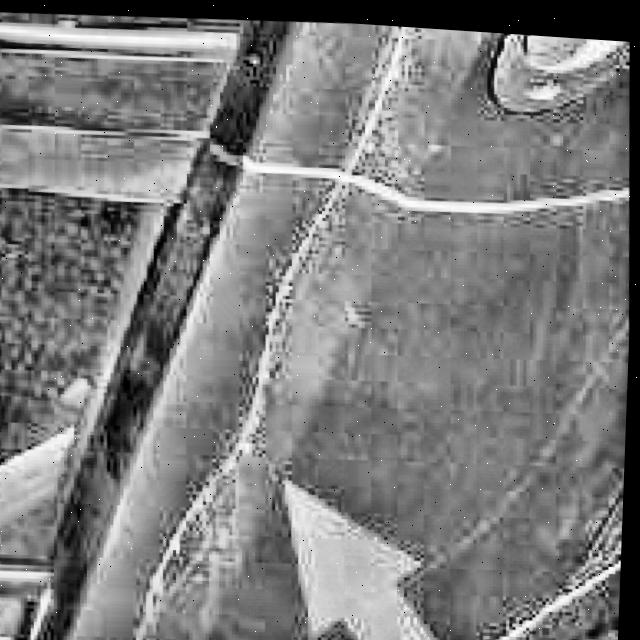door_scratch: (200, 228, 342, 491), (291, 20, 443, 222), (94, 504, 207, 640)
